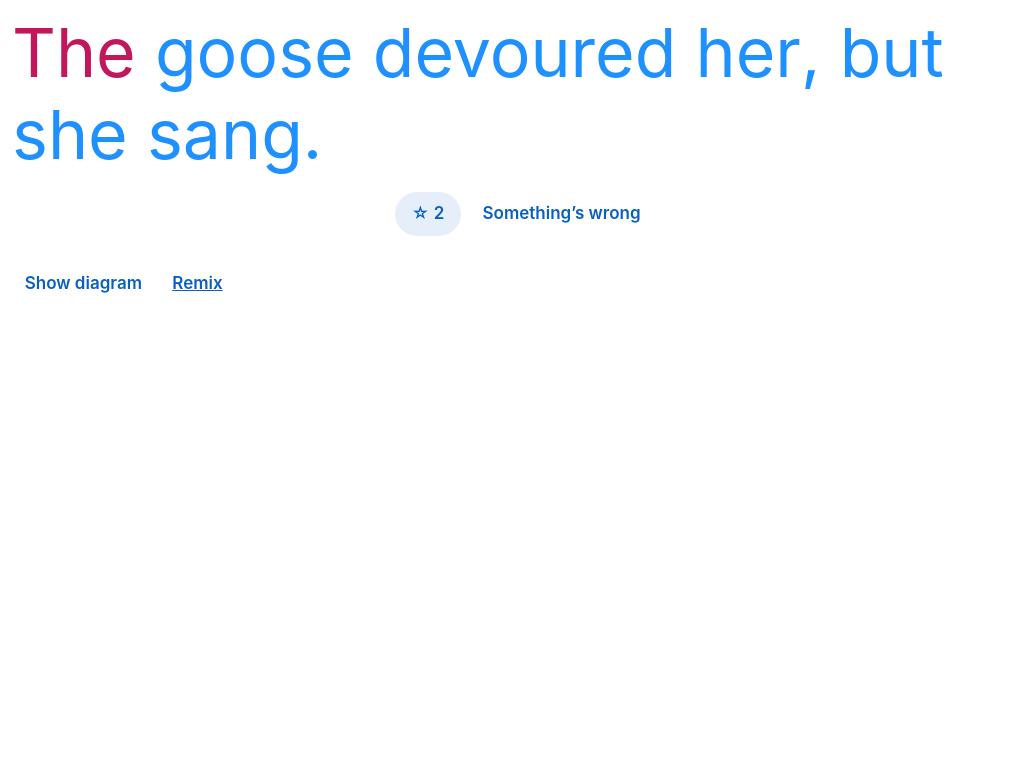
SentenceView › retargets the open flag form when a word is pressed
Click the button "Something’s wrong" at (562, 214), box [470,192,653,236]
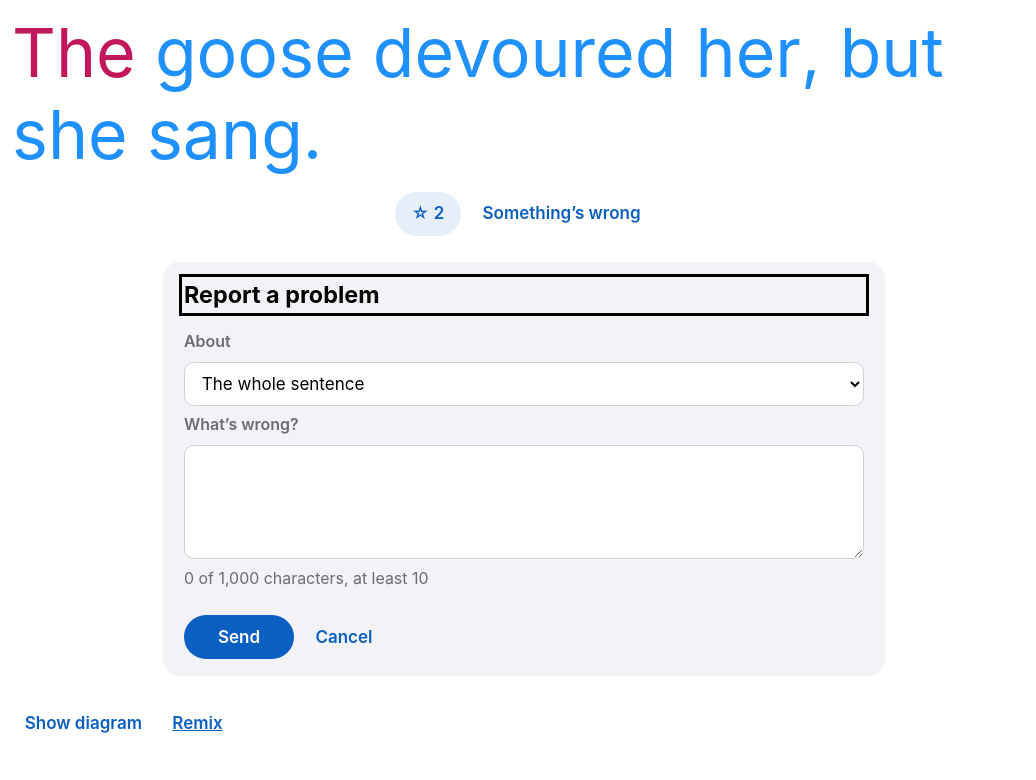
Expected: the dropdown labelled "About" shows "The whole sentence", [184,362,864,406]
Click the button "sang" at (225, 134), box [147,94,303,175]
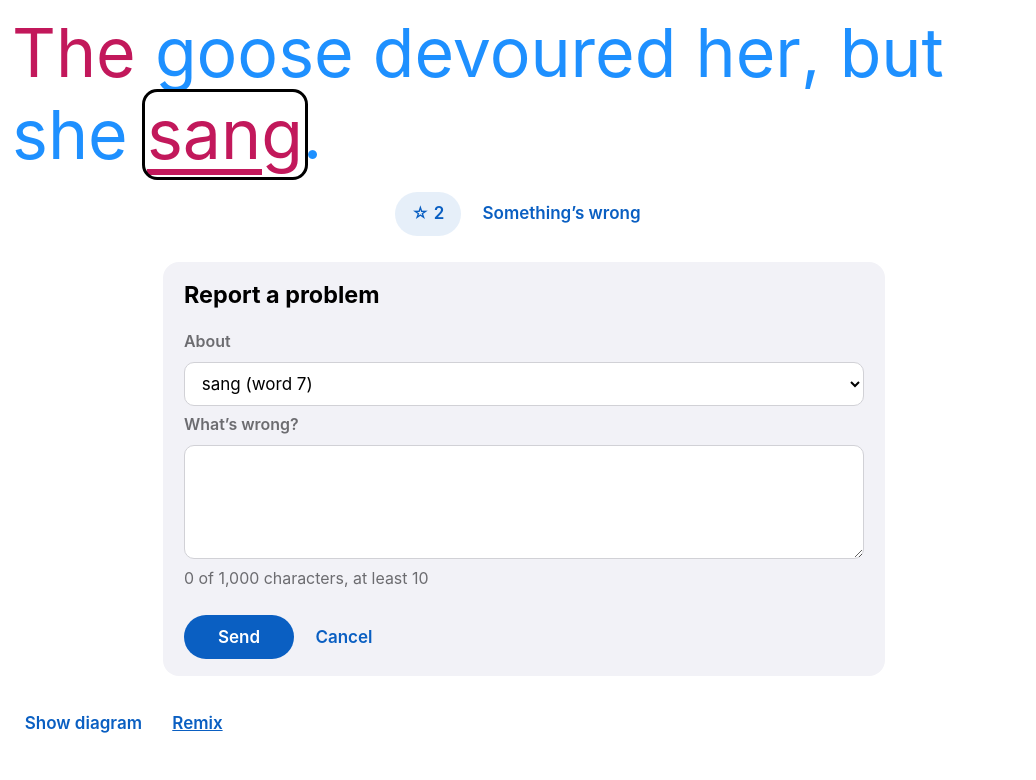
Expected: the dropdown labelled "About" shows "sang (word 7)", [184,362,864,406]
